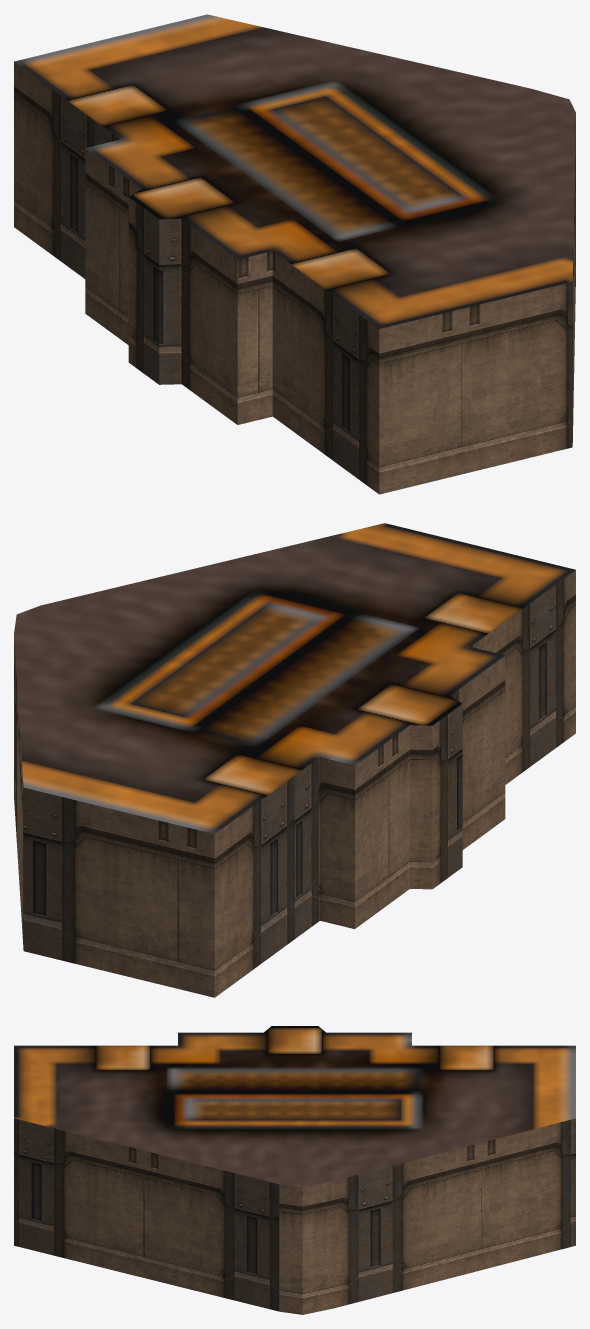
File: heavy_roof06.glb
3 views of the same model, one above another, from view 1: azimuth 30°, elevation 25°; view 2: azimuth 150°, elevation 25°; view 3: azimuth 270°, elevation 25° (orthographic). The views are drawn at different scales.
Parts seen in each view (by area): view 1: buildings/saxarba/heavy/heavy_roof06; view 2: buildings/saxarba/heavy/heavy_roof06; view 3: buildings/saxarba/heavy/heavy_roof06.
Part boxes in pixels (box(x1,y1,x2,y2)): buildings/saxarba/heavy/heavy_roof06: box(14, 14, 575, 494); buildings/saxarba/heavy/heavy_roof06: box(14, 523, 575, 997); buildings/saxarba/heavy/heavy_roof06: box(14, 1026, 575, 1314).
Size of the model in its own units: 49 by 18 by 72.
